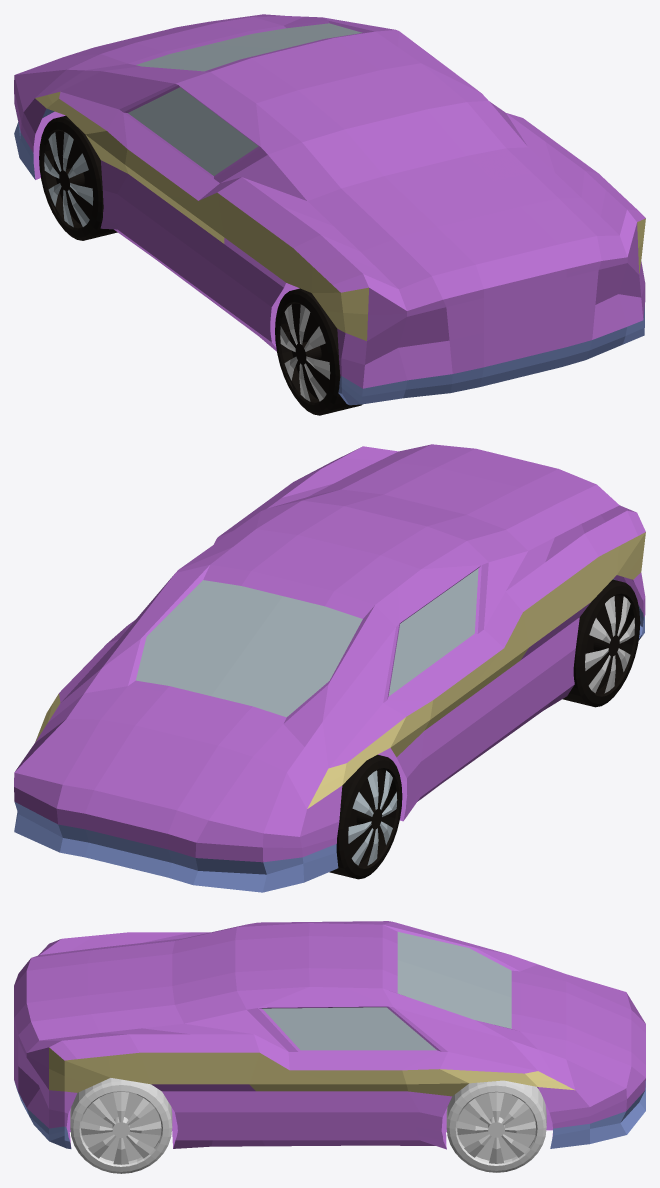
File: Mobil.fbx
3 renders of one model, top to bottom at view 1: azimuth 30°, elevation 25°; view 2: azimuth 150°, elevation 25°; view 3: azimuth 270°, elevation 25°, orthographic. The views are drawn at different scales.
Visible parts, largest first — view 1: Cube, Cylinder.001, Cylinder; view 2: Cube, Cylinder.001, Cylinder; view 3: Cube, Cylinder.002, Cylinder.003.
Boxes of the visible parts, <box> form: Cube: <box>14,14,645,405</box>; Cylinder.001: <box>275,288,362,415</box>; Cylinder: <box>39,115,117,240</box>; Cube: <box>14,444,645,892</box>; Cylinder.001: <box>562,579,640,707</box>; Cylinder: <box>329,754,402,879</box>; Cube: <box>14,921,645,1149</box>; Cylinder.002: <box>70,1078,172,1173</box>; Cylinder.003: <box>446,1080,546,1172</box>.
Bounding box in the file's own units: 253 × 159 × 555.
